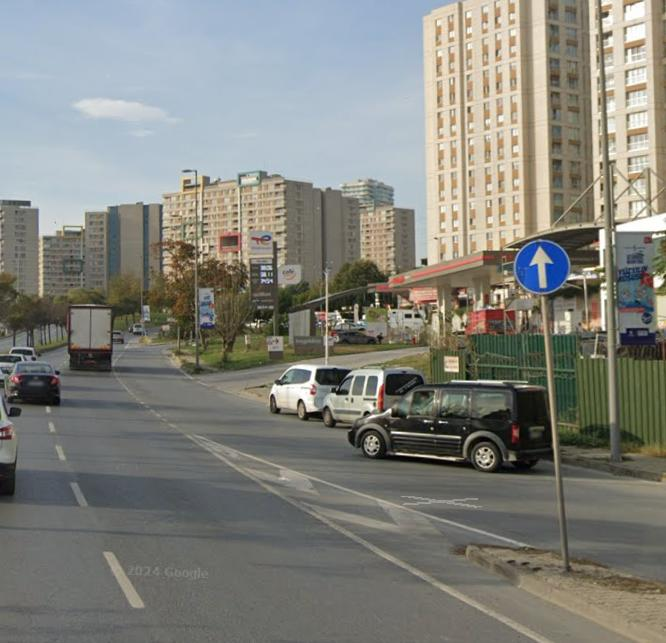forward: (517, 241, 568, 290)
